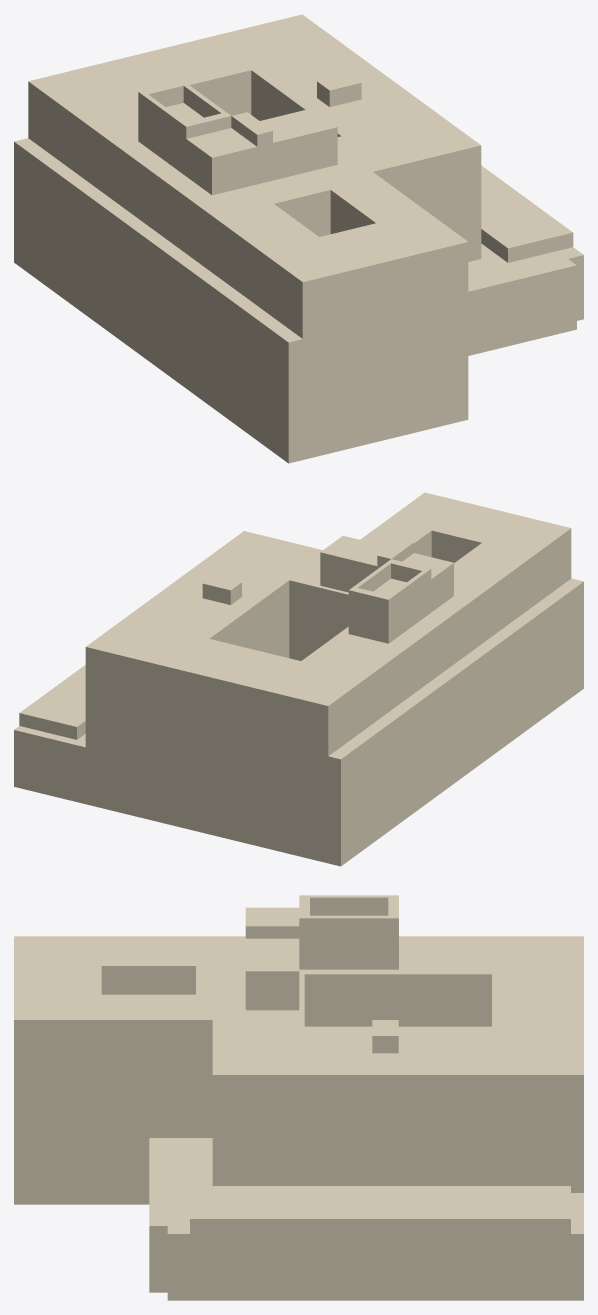
File: SM_Huxley_Building.fbx
3 renders of one model, top to bottom at view 1: azimuth 30°, elevation 25°; view 2: azimuth 150°, elevation 25°; view 3: azimuth 270°, elevation 25°, orthographic. The views are drawn at different scales.
Parts seen in each view (by area): view 1: SM_Huxley_Building; view 2: SM_Huxley_Building; view 3: SM_Huxley_Building.
Boxes of the visible parts, x1,y1,x2,y2 form: SM_Huxley_Building: (14,14,583,463); SM_Huxley_Building: (14,492,583,866); SM_Huxley_Building: (14,895,583,1300).
Bounding box in the file's own units: 57.84 × 34.03 × 74.48.
